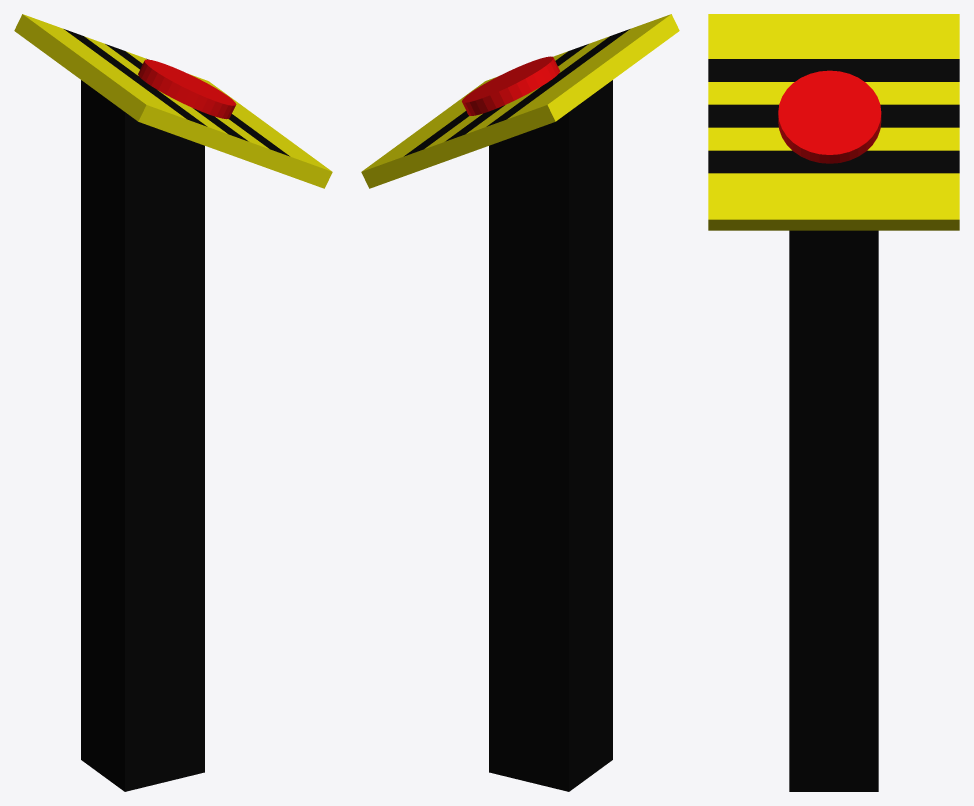
Rendered from Buzzer.fbx.
The picture shows the model from 3 angles, left to right: view 1: azimuth 30°, elevation 25°; view 2: azimuth 150°, elevation 25°; view 3: azimuth 270°, elevation 25°; orthographic projection.
Parts seen in each view (by area): view 1: Cube, Cube.001, Cylinder; view 2: Cube, Cube.001, Cylinder; view 3: Cube, Cube.001, Cylinder.
Part boxes in pixels (x1=…): Cube: x1=81, y1=80, x2=204, y2=791; Cube.001: x1=14, y1=14, x2=332, y2=188; Cylinder: x1=138, y1=59, x2=236, y2=119; Cube: x1=489, y1=80, x2=612, y2=791; Cube.001: x1=361, y1=14, x2=679, y2=188; Cylinder: x1=462, y1=56, x2=559, y2=115; Cube: x1=789, y1=230, x2=878, y2=791; Cube.001: x1=708, y1=14, x2=959, y2=230; Cylinder: x1=778, y1=70, x2=881, y2=163.
Bounding box in the file's own units: 318 × 1128 × 352.
